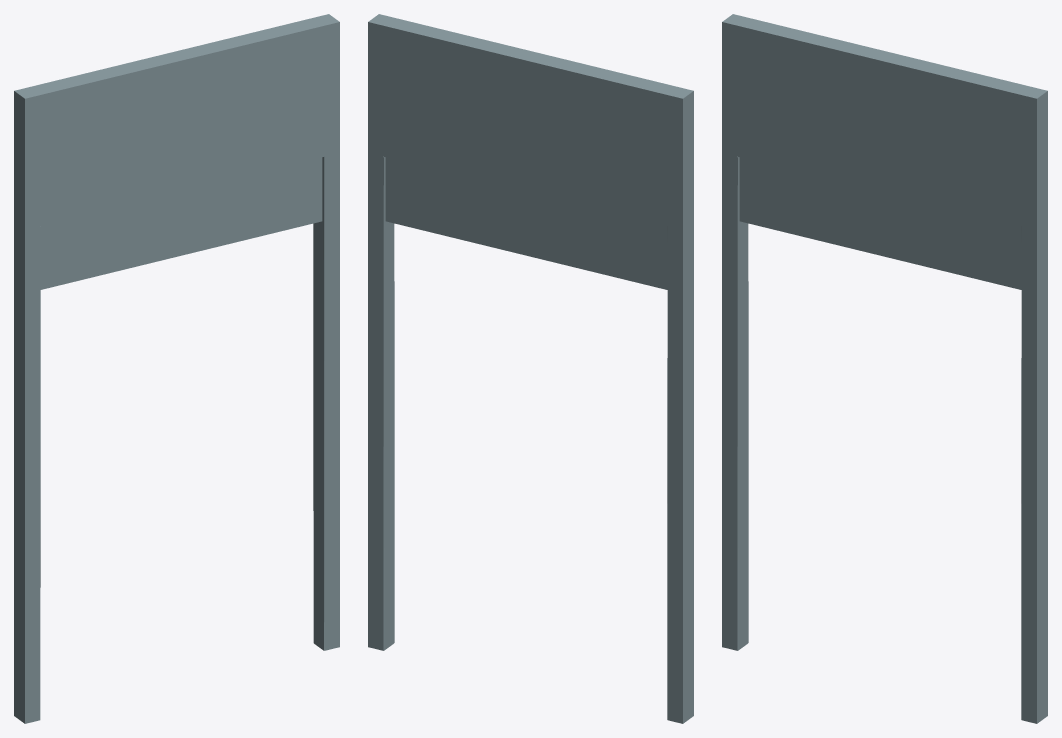
Rendered from shopfront_door.glb.
3 renders of one model, left to right at view 1: azimuth 30°, elevation 25°; view 2: azimuth 150°, elevation 25°; view 3: azimuth 330°, elevation 25°, orthographic.
Visible parts, largest first — view 1: shopfront_door_fascia, shopfront_door_frame2; view 2: shopfront_door_fascia, shopfront_door_frame2; view 3: shopfront_door_fascia, shopfront_door_frame2.
Part boxes in pixels (x1=…): shopfront_door_fascia: x1=14, y1=14, x2=339, y2=229; shopfront_door_frame2: x1=14, y1=153, x2=339, y2=723; shopfront_door_fascia: x1=368, y1=14, x2=693, y2=229; shopfront_door_frame2: x1=368, y1=153, x2=693, y2=723; shopfront_door_fascia: x1=722, y1=14, x2=1047, y2=229; shopfront_door_frame2: x1=722, y1=153, x2=1047, y2=723.
Size of the model in its own units: 2 by 3.8 by 0.12.
